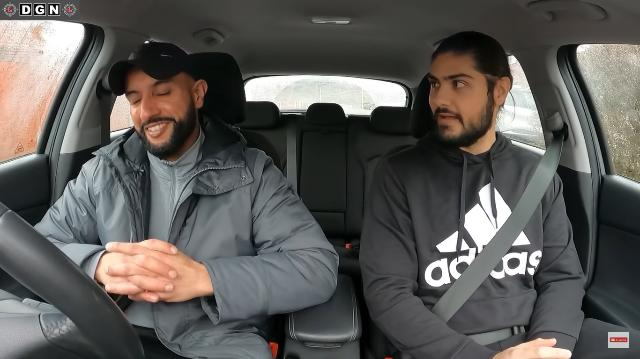no seatbelt: (70, 144, 269, 359)
seatbelt: (366, 162, 604, 359)
